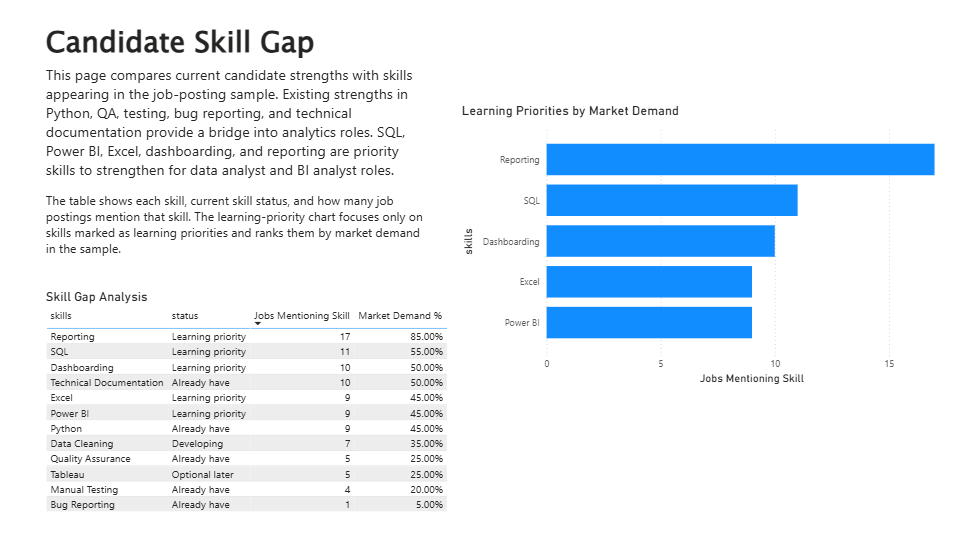

This screenshot's page, from the dashboard's own definition file:
{"tool":"powerbi","page":{"name":"Candidate Skill Gap","canvas":[1280,720],"ordinal":3},"visuals":[{"type":"tableEx","title":"Skill Gap Analysis","fields":{"Values":["My Skills.skills","My Skills.status","Job Skills.Skill Mentions","Jobs.Market Demand %"]},"box":[60,388.6,561.4,311.4],"z":0},{"type":"clusteredBarChart","title":"Learning Priorities by Market Demand","fields":{"Category":["My Skills.skills"],"Y":["Job Skills.Jobs Mentioning Skill"]},"box":[604.3,145.7,665.7,372.9],"z":1000},{"type":"textbox","box":[60,32.9,507.1,327.1],"z":2001}]}

Visuals, with their boxes in screenshot pixels (x1, y1, x2, y2), scaled from the page's 1280x720 canvas onto the 967x535 screenshot:
"Skill Gap Analysis" tableEx: region(45, 289, 469, 520)
"Learning Priorities by Market Demand" clusteredBarChart: region(457, 108, 959, 385)
textbox: region(45, 24, 428, 268)
